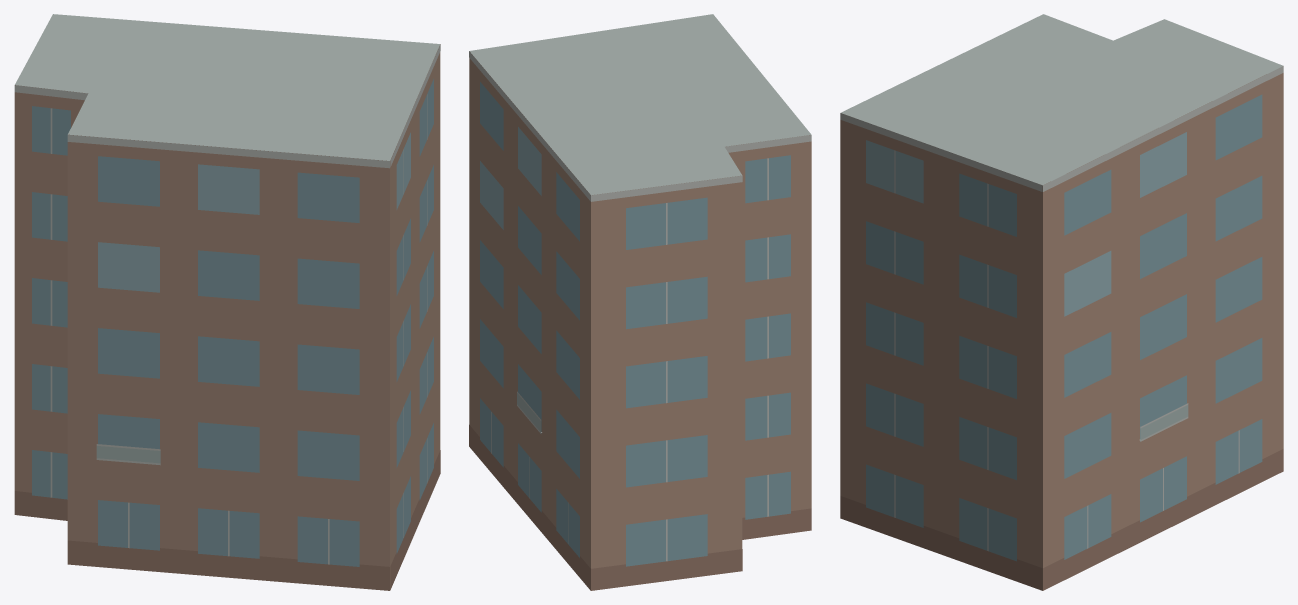
Rendered from survey-upis-32881959.glb.
The picture shows the model from 3 angles, left to right: view 1: azimuth 30°, elevation 25°; view 2: azimuth 150°, elevation 25°; view 3: azimuth 270°, elevation 25°; orthographic projection. The views are drawn at different scales.
Visible parts, largest first — view 1: survey-upis-32881959.tmp; view 2: survey-upis-32881959.tmp; view 3: survey-upis-32881959.tmp.
Part boxes in pixels (x1,y1,x2,y2): survey-upis-32881959.tmp: (14, 14, 440, 590); survey-upis-32881959.tmp: (469, 14, 811, 590); survey-upis-32881959.tmp: (840, 14, 1283, 590).
Bounding box in the file's own units: 13.15 × 14.5 × 14.37.
